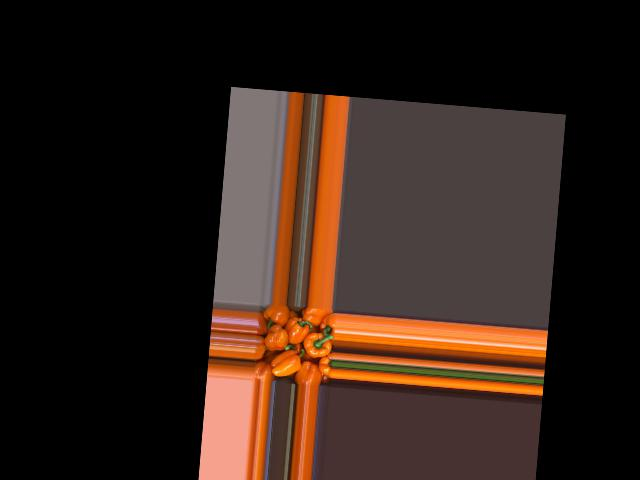bell_pepper: (255, 310, 274, 341)
